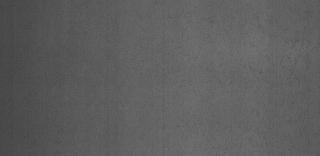silk spot: (181, 6, 311, 142)
